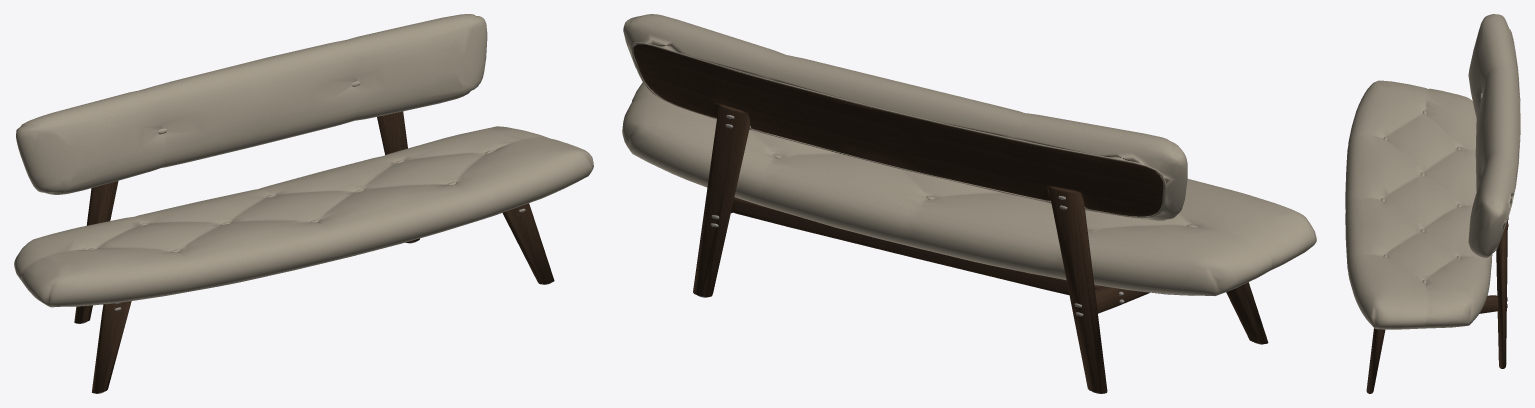
Rendered from lounge-bench.glb.
3 renders of one model, left to right at view 1: azimuth 30°, elevation 25°; view 2: azimuth 150°, elevation 25°; view 3: azimuth 270°, elevation 25°, orthographic. The views are drawn at different scales.
Parts seen in each view (by area): view 1: SheenChair_fabric, SheenChair_wood; view 2: SheenChair_fabric, SheenChair_wood; view 3: SheenChair_fabric, SheenChair_wood.
Boxes of the visible parts, x1=… form: SheenChair_fabric: x1=14, y1=14, x2=593, y2=307; SheenChair_wood: x1=74, y1=111, x2=554, y2=393; SheenChair_fabric: x1=622, y1=14, x2=1316, y2=295; SheenChair_wood: x1=633, y1=44, x2=1268, y2=393; SheenChair_fabric: x1=1345, y1=14, x2=1520, y2=329; SheenChair_wood: x1=1366, y1=219, x2=1507, y2=393.
Bounding box in the file's own units: 2.73 × 1.03 × 0.855.
4 materials, 3 textured.
